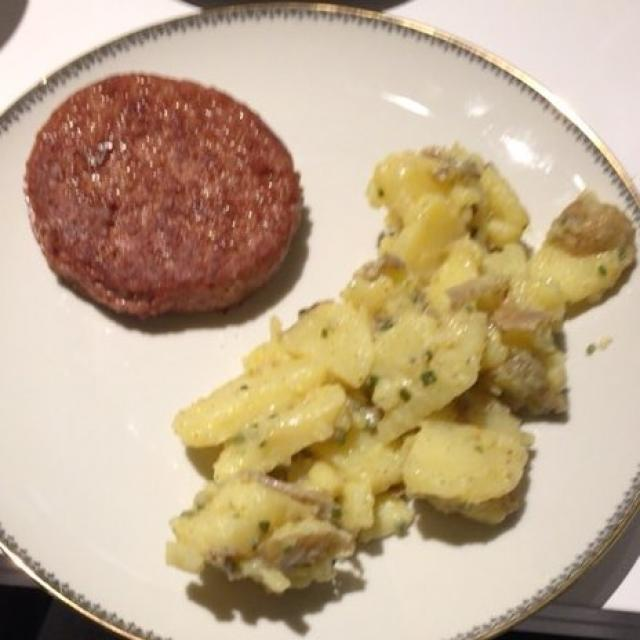veggie-burger: (31, 77, 299, 319)
